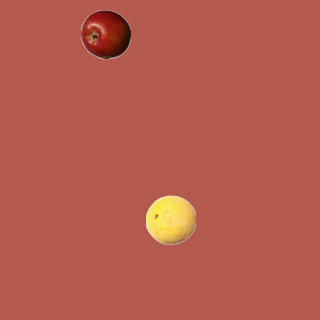Apple Braeburn: (80, 9, 130, 59)
Cantaloupe 1: (145, 194, 195, 244)
